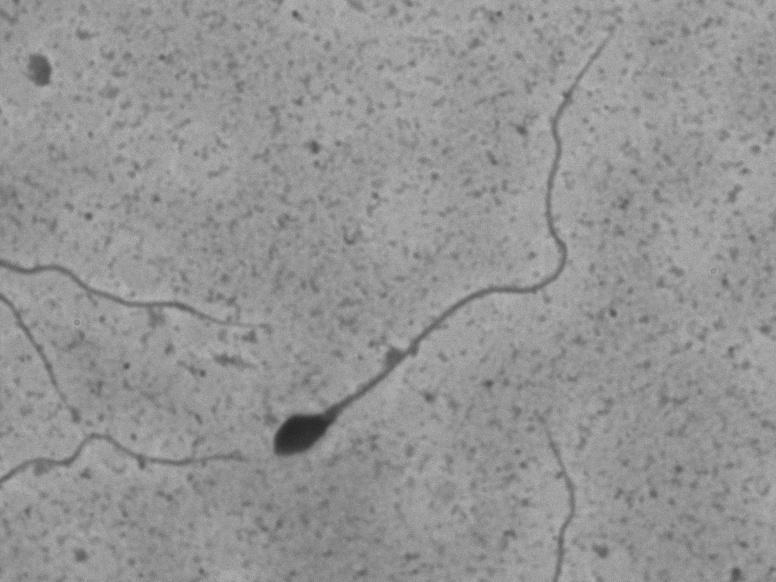Abnormal: (256, 14, 634, 471)
